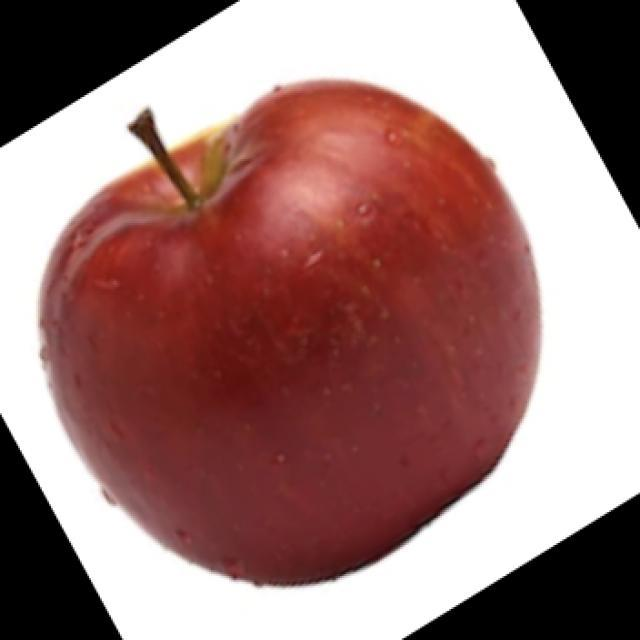Fresh Apple: (40, 88, 548, 582)
